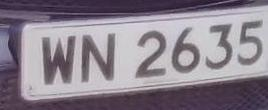2: (130, 24, 170, 84)
3: (204, 20, 233, 75)
5: (234, 16, 268, 72)
6: (168, 23, 203, 77)
N: (77, 28, 123, 91)
W: (36, 28, 79, 93)
